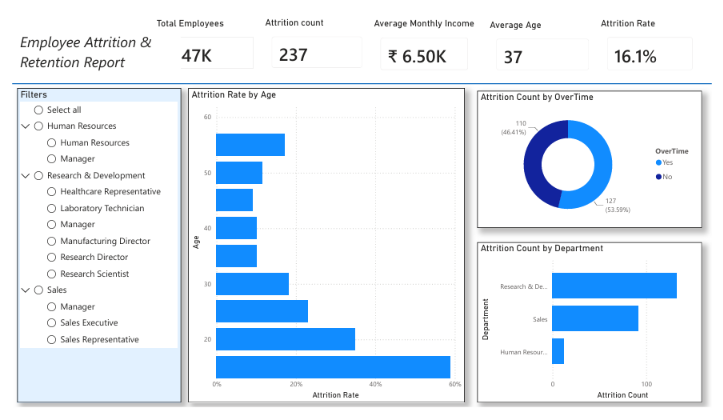

The dashboard page shown, as its layout file describes it:
{"tool":"powerbi","page":{"name":"Executive Summary","canvas":[1280,720],"ordinal":0},"visuals":[{"type":"cardVisual","title":"Total Employees","fields":{"Data":["_Metrics.Total Employees"]},"box":[259,7.9,199.5,111],"z":0},{"type":"cardVisual","title":"Attrition count","fields":{"Data":["_Metrics.Attrition Count"]},"box":[458.5,6.6,198.2,111],"z":1000},{"type":"cardVisual","title":"Attrition Rate","fields":{"Data":["_Metrics.Attrition Rate"]},"box":[1071.5,7.9,190.3,113.6],"z":2000},{"type":"listSlicer","title":"Filters","fields":{"Values":["hr_analytics_db v_hr_analytics_data.Department","hr_analytics_db v_hr_analytics_data.JobRole"]},"box":[8.6,137,300.8,574.7],"z":3000},{"type":"clusteredBarChart","fields":{"Category":["hr_analytics_db v_hr_analytics_data.Department"],"Y":["_Metrics.Attrition Count"]},"box":[851.1,419.4,410.9,292.3],"z":4000},{"type":"donutChart","fields":{"Category":["hr_analytics_db v_hr_analytics_data.OverTime"],"Y":["_Metrics.Attrition Count"]},"box":[851.1,141.8,410.9,250.7],"z":5000},{"type":"clusteredBarChart","title":"Attrition Rate by Age ","fields":{"Y":["_Metrics.Attrition Rate"],"Category":["hr_analytics_db v_hr_analytics_data.Age (bins)"]},"box":[321.6,137,506.3,574.7],"z":6000},{"type":"shape","box":[0,110.1,1280.3,37.9],"z":7001},{"type":"textbox","box":[8.6,29.3,300.8,89.3],"z":7002},{"type":"cardVisual","title":"Average Monthly Income","fields":{"Data":["Avg(hr_analytics_db v_hr_analytics_data.MonthlyIncome)"]},"box":[656.6,9.2,194.2,112.3],"z":7003},{"type":"cardVisual","title":"Average Age","fields":{"Data":["Avg(hr_analytics_db v_hr_analytics_data.Age)"]},"box":[869.4,10.6,202.1,111],"z":7004}]}

Visuals, with their boxes on the page's 1280x720 design canvas (x1, y1, x2, y2). These are canvas units, not pixel positions in the 723x420 screenshot, which may show the page scaled, cropped or inside an application window:
"Total Employees" cardVisual: [259, 8, 458, 119]
"Attrition count" cardVisual: [458, 7, 657, 118]
"Attrition Rate" cardVisual: [1072, 8, 1262, 122]
"Filters" listSlicer: [9, 137, 309, 712]
clusteredBarChart - hr_analytics_db v_hr_analytics_data.Department x _Metrics.Attrition Count: [851, 419, 1262, 712]
donutChart - hr_analytics_db v_hr_analytics_data.OverTime x _Metrics.Attrition Count: [851, 142, 1262, 392]
"Attrition Rate by Age " clusteredBarChart: [322, 137, 828, 712]
shape: [0, 110, 1280, 148]
textbox: [9, 29, 309, 119]
"Average Monthly Income" cardVisual: [657, 9, 851, 122]
"Average Age" cardVisual: [869, 11, 1072, 122]
